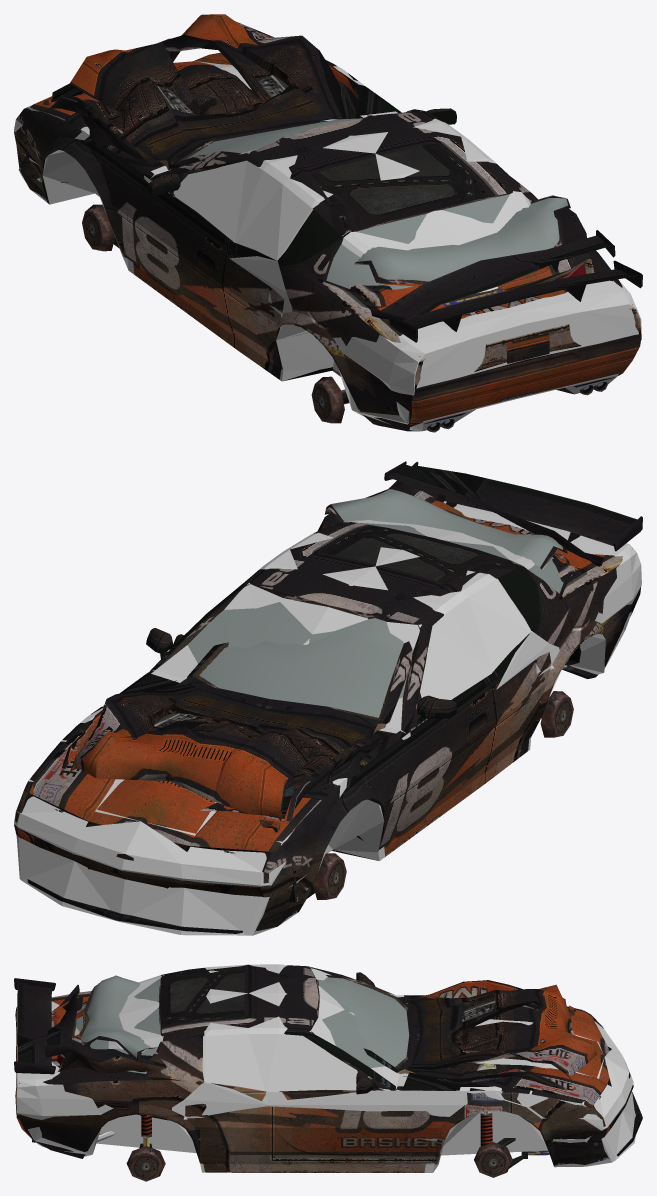
Rendered from body_out.glb.
The picture shows the model from 3 angles, top to bottom: view 1: azimuth 30°, elevation 25°; view 2: azimuth 150°, elevation 25°; view 3: azimuth 270°, elevation 25°; orthographic projection. The views are drawn at different scales.
Visible parts, largest first — view 1: Surface44, body_shadow, Surface24_crash, Surface41, Surface39, Surface28_crash, Surface25_crash, Surface44_crash, Surface25, Surface28, Surface24, Surface23_crash (+7 smaller); view 2: body_shadow, Surface44, Surface24_crash, Surface24, Surface47_crash, Surface41, Surface39, Surface25, Surface44_crash, Surface28_crash, Surface47, Surface35 (+7 smaller); view 3: body_shadow, Surface44, Surface19, Surface24_crash, Surface30, Surface24, Surface47_crash, Surface44_crash, Surface25, Surface28_crash, Surface47, Surface25_crash (+10 smaller).
Part boxes in pixels (x1,y1,x2,y2): Surface44: (133, 109, 641, 431); body_shadow: (14, 61, 641, 431); Surface24_crash: (51, 14, 355, 163); Surface41: (134, 172, 276, 356); Surface39: (14, 104, 150, 271); Surface28_crash: (358, 198, 568, 281); Surface25_crash: (370, 230, 615, 320); Surface44_crash: (82, 81, 594, 306); Surface25: (388, 260, 642, 342); Surface28: (326, 194, 531, 289); Surface24: (33, 52, 395, 171); Surface23_crash: (178, 64, 259, 114); body_shadow: (14, 501, 641, 935); Surface44: (150, 516, 640, 860); Surface24_crash: (70, 683, 376, 821); Surface24: (28, 673, 395, 851); Surface47_crash: (199, 618, 403, 717); Surface41: (398, 633, 536, 835); Surface39: (255, 733, 408, 931); Surface25: (389, 462, 642, 551); Surface44_crash: (175, 484, 581, 821); Surface28_crash: (331, 489, 562, 567); Surface47: (187, 602, 407, 698); Surface35: (17, 829, 263, 933); body_shadow: (16, 964, 635, 1172); Surface44: (15, 964, 425, 1172); Surface19: (208, 1070, 406, 1164); Surface24_crash: (405, 984, 597, 1081); Surface30: (398, 1086, 609, 1166); Surface24: (404, 995, 609, 1106); Surface47_crash: (317, 977, 409, 1066); Surface44_crash: (58, 965, 574, 1078); Surface25: (14, 978, 55, 1074); Surface28_crash: (80, 975, 152, 1057); Surface47: (322, 1001, 384, 1067); Surface25_crash: (44, 985, 83, 1057).
Size of the model in its own units: 2.1 by 1.28 by 4.93.
